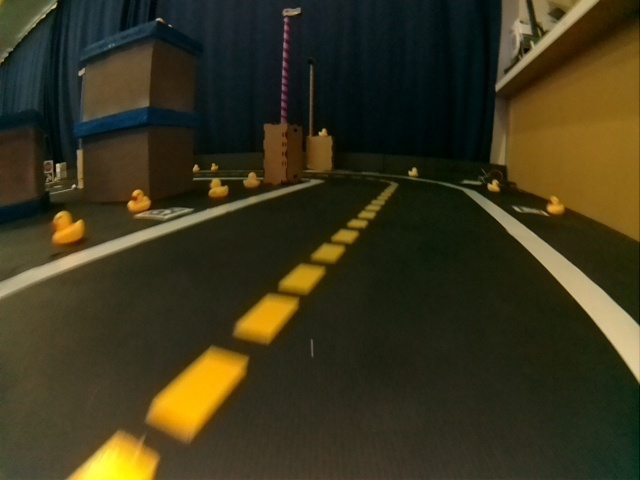Duckie: (54, 211, 84, 243), (128, 190, 145, 209), (208, 179, 228, 195), (548, 197, 565, 213), (243, 175, 260, 188), (488, 179, 499, 192), (319, 128, 328, 138), (408, 169, 416, 177)
QR code: (138, 209, 190, 220), (513, 206, 545, 216)
